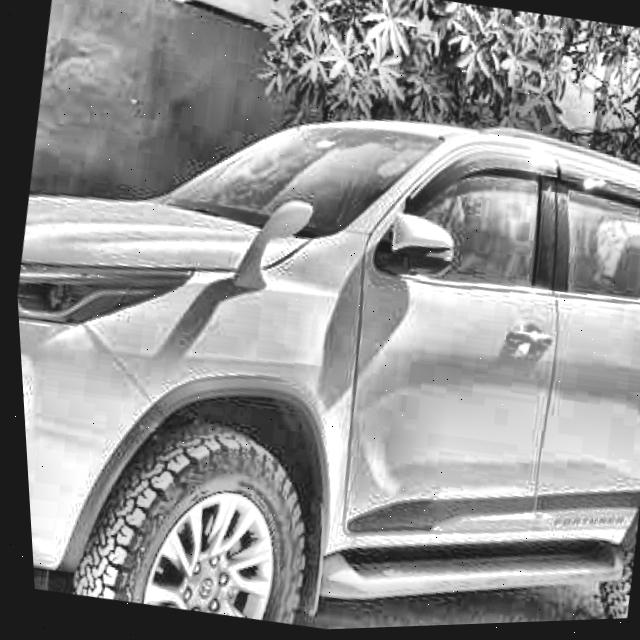light_vehicle: (3, 43, 640, 640)
